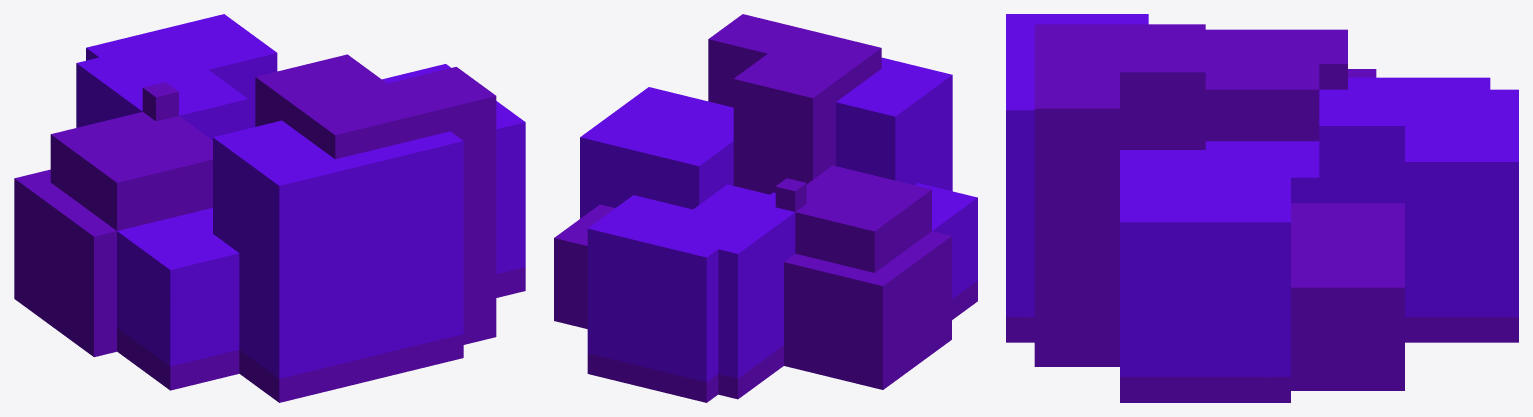
The model's file is Rock4.dae.
3 renders of one model, left to right at view 1: azimuth 30°, elevation 25°; view 2: azimuth 150°, elevation 25°; view 3: azimuth 270°, elevation 25°, orthographic. The views are drawn at different scales.
Parts seen in each view (by area): view 1: Rock4; view 2: Rock4; view 3: Rock4.
Part boxes in pixels (left/top/right/bottom): Rock4: left=14, top=14, right=525, bottom=402; Rock4: left=554, top=14, right=977, bottom=402; Rock4: left=1006, top=14, right=1518, bottom=402.
Size of the model in its own units: 1.7 by 1 by 1.8.
1 material, 1 textured.
